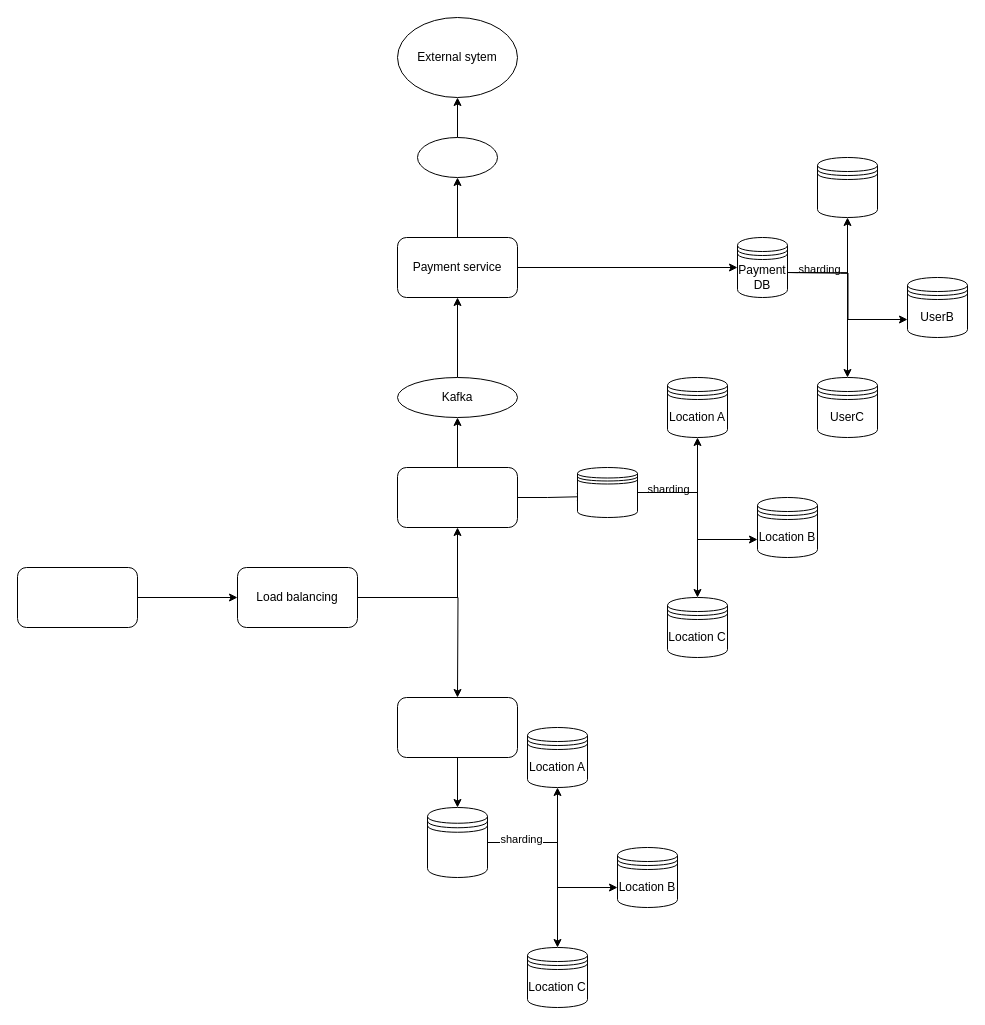
Some shapes in this 985 by 1025 pixel diagram are drawn without their labels. Each missing label, with the box of its shape:
Application (Web,Mobile): (16, 566, 138, 628)
Kafka or API: (416, 136, 498, 178)
Reservation DB: (576, 466, 638, 518)
Reservation service: (396, 466, 518, 528)
UserA: (816, 156, 878, 218)
View data service: (396, 696, 518, 758)
View DB: (426, 806, 488, 878)
